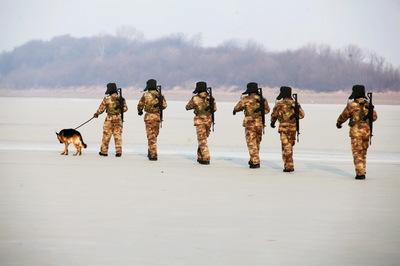up: (329, 81, 381, 185), (227, 79, 271, 172), (265, 85, 310, 174), (182, 77, 216, 166), (134, 78, 168, 162), (94, 80, 127, 161)
